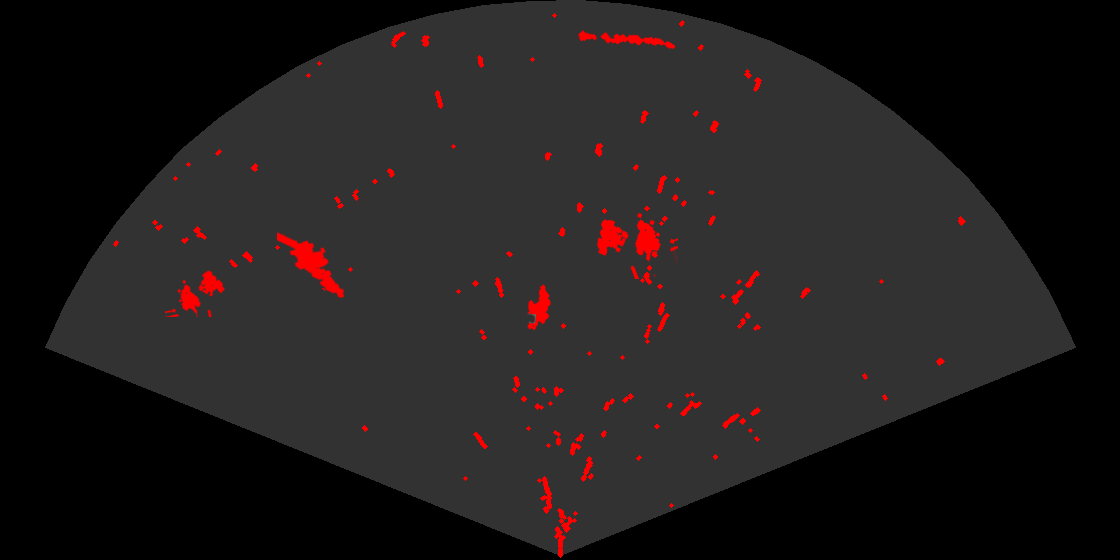AUV: (526, 283, 552, 332)
cage: (595, 211, 678, 279), (165, 269, 226, 317)
chain: (576, 29, 677, 50)
frogman: (277, 231, 346, 300)
